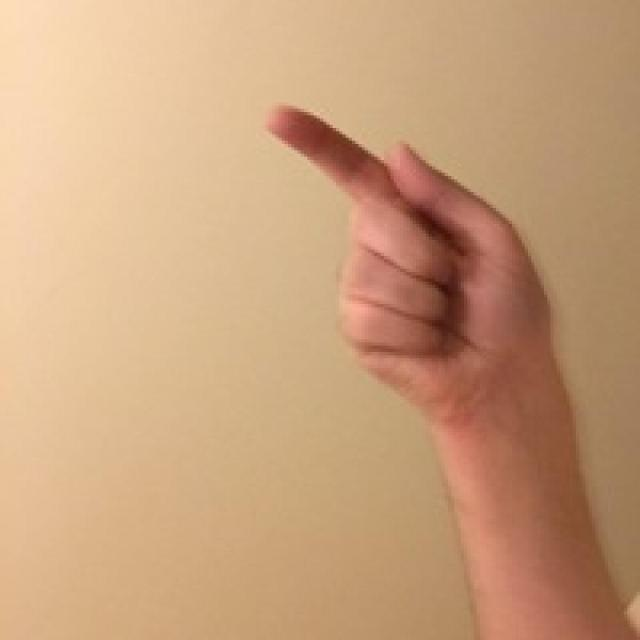G: (244, 57, 620, 527)
